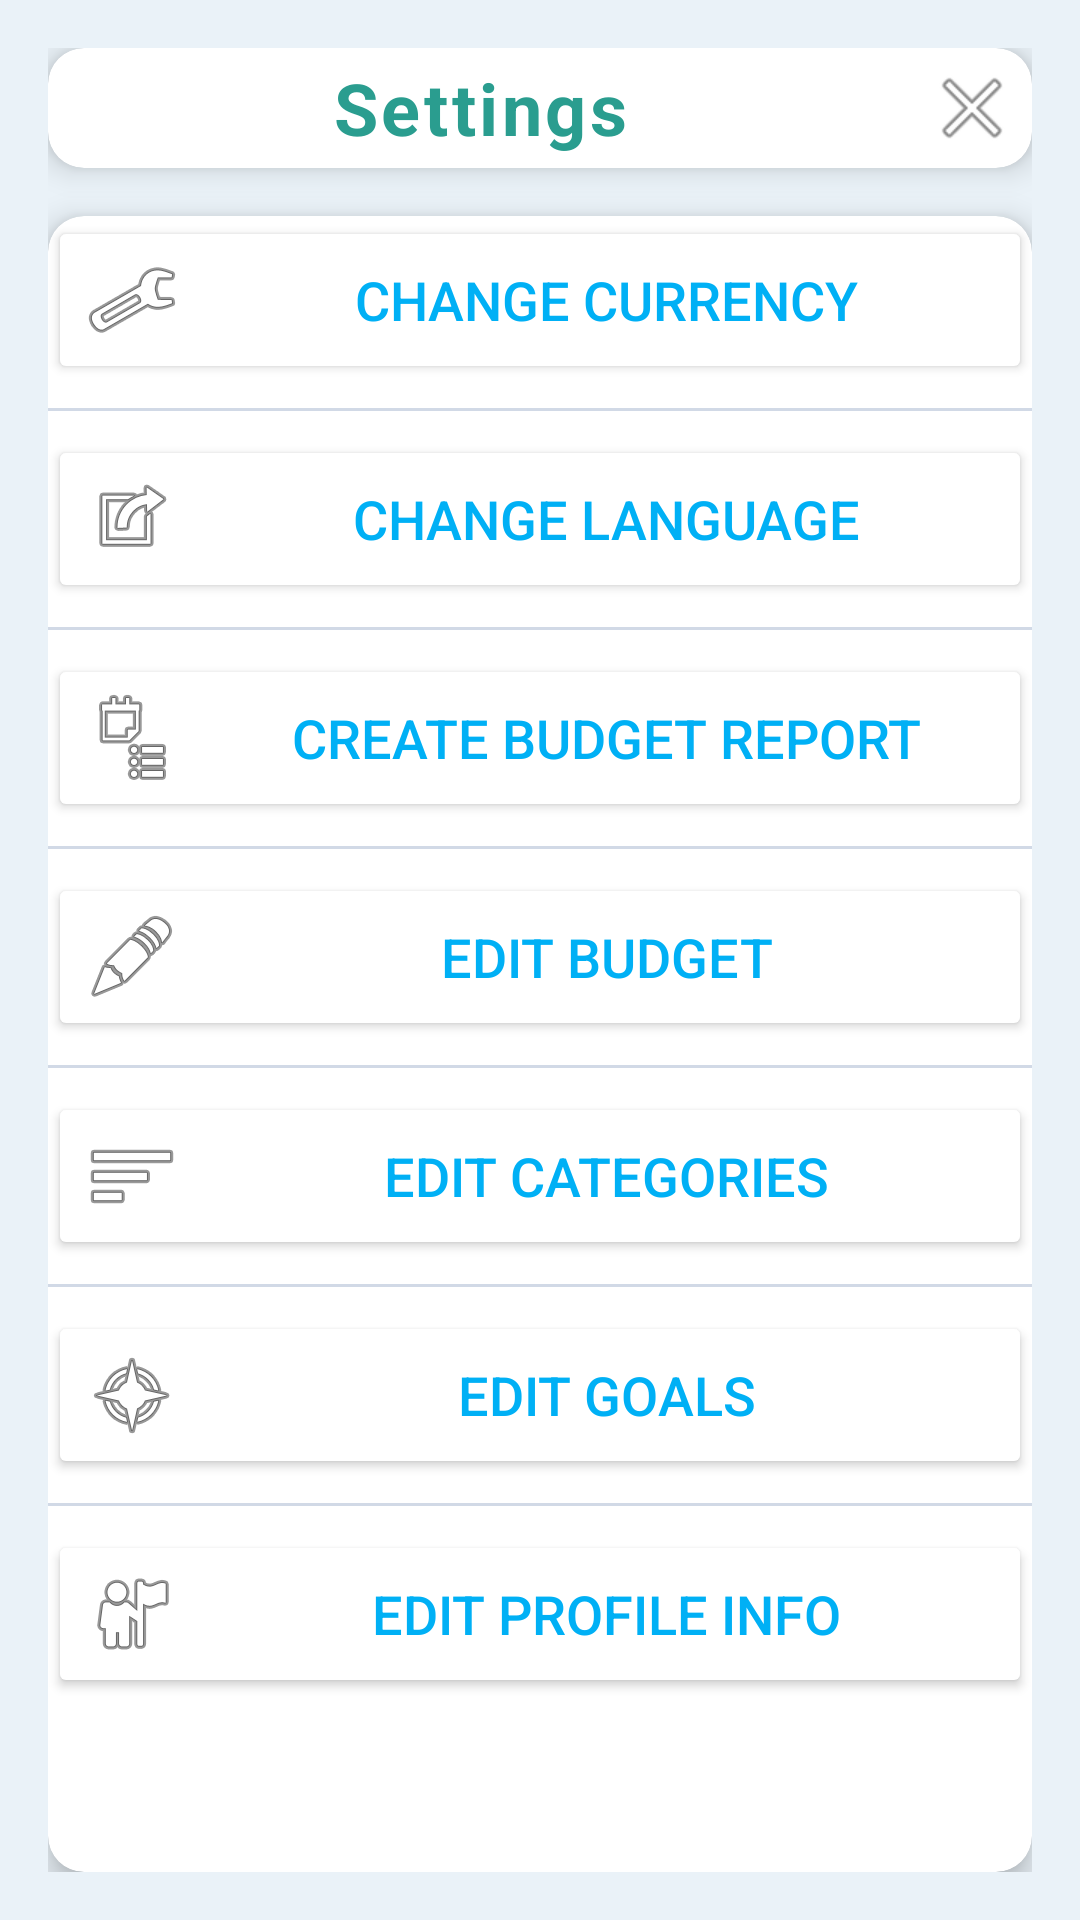

Screen size 1080 × 1920. Icon name, then its box in pixels as (x1, y1, x2, y2):
Exit: (912, 48, 1032, 168)
